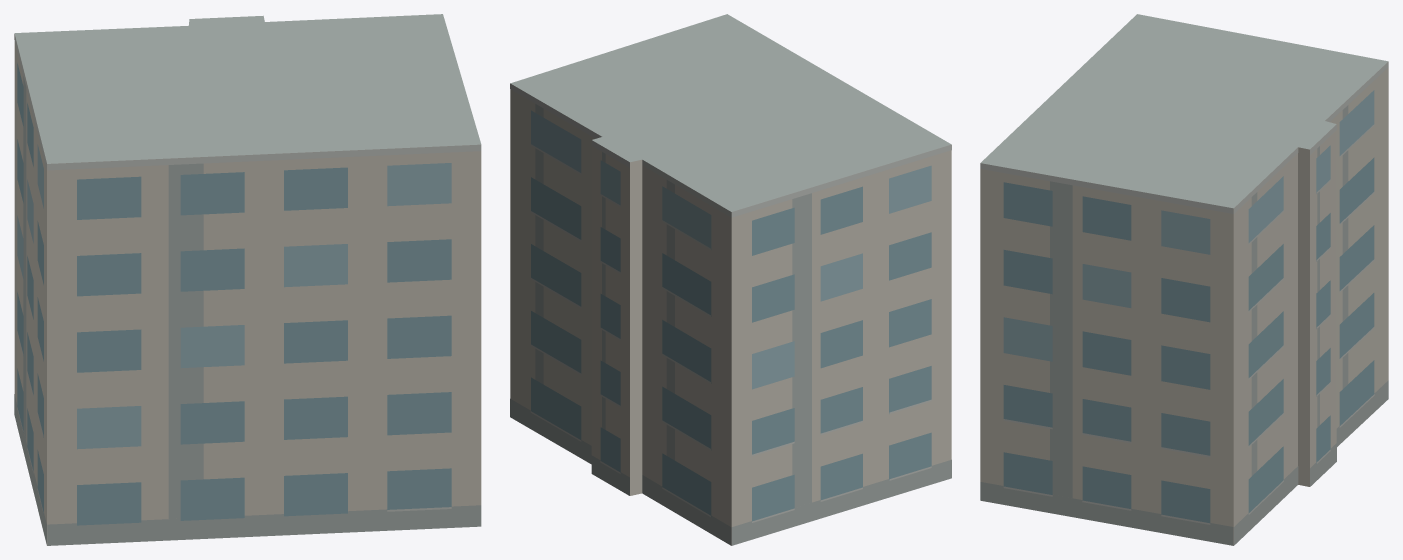
File: survey-upis-32531499.glb
The picture shows the model from 3 angles, left to right: view 1: azimuth 30°, elevation 25°; view 2: azimuth 150°, elevation 25°; view 3: azimuth 270°, elevation 25°; orthographic projection. The views are drawn at different scales.
Parts seen in each view (by area): view 1: survey-upis-32531499.tmp; view 2: survey-upis-32531499.tmp; view 3: survey-upis-32531499.tmp.
Boxes of the visible parts, x1,y1,x2,y2 form: survey-upis-32531499.tmp: (14, 14, 481, 545); survey-upis-32531499.tmp: (510, 14, 951, 545); survey-upis-32531499.tmp: (980, 14, 1388, 545).
Size of the model in its own units: 17.66 by 14.3 by 15.69.
